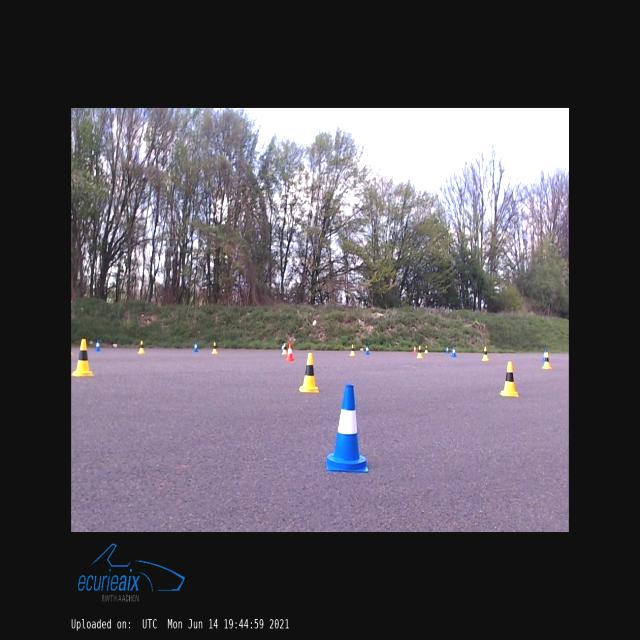blue_cone: (326, 385, 368, 472), (96, 338, 100, 351), (452, 345, 456, 357), (542, 350, 546, 361), (194, 342, 198, 352), (366, 344, 370, 354), (446, 345, 450, 353), (281, 342, 283, 350)
orange_cone: (286, 344, 294, 361), (412, 346, 417, 352)
yellow_cone: (299, 352, 319, 392), (71, 340, 93, 376), (501, 362, 518, 396), (542, 352, 552, 368), (482, 347, 489, 360), (138, 341, 144, 353), (212, 342, 218, 354), (350, 344, 356, 356), (417, 346, 422, 358), (282, 343, 287, 354), (424, 346, 428, 352)
